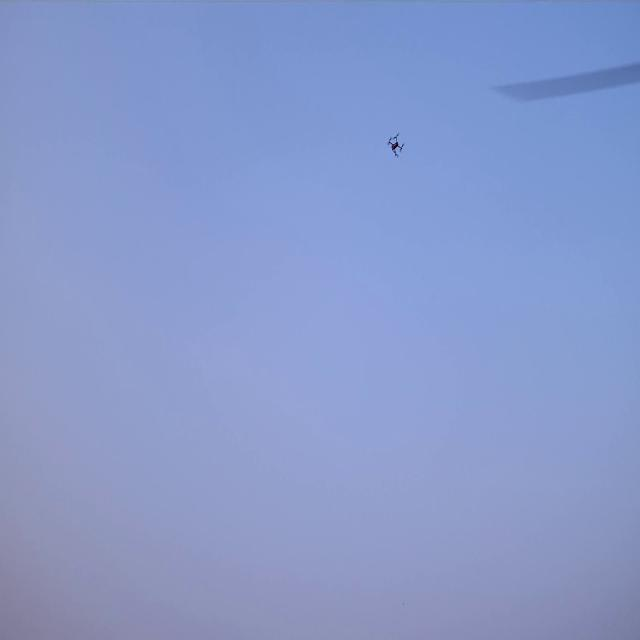UAV: (389, 136, 403, 156)
